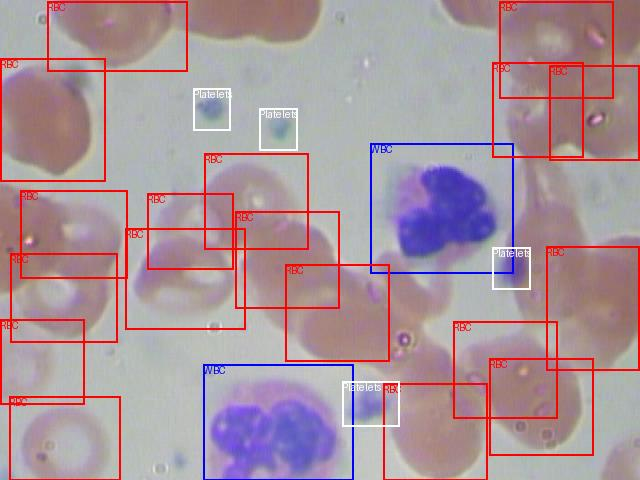Platelets: (342, 381, 399, 426), (492, 247, 530, 289), (259, 108, 297, 150), (193, 88, 230, 130)
RBC: (0, 58, 105, 181), (125, 228, 245, 329), (546, 246, 639, 370), (499, 1, 613, 98), (383, 383, 487, 480), (489, 358, 593, 455), (453, 321, 557, 418), (235, 211, 339, 308), (285, 264, 389, 361), (204, 153, 308, 249), (47, 1, 187, 71), (10, 253, 117, 342), (20, 190, 127, 278), (9, 396, 120, 480), (492, 62, 583, 157), (549, 65, 639, 160), (0, 319, 84, 404), (147, 193, 233, 269)
WBC: (370, 143, 513, 273), (203, 364, 353, 480)
